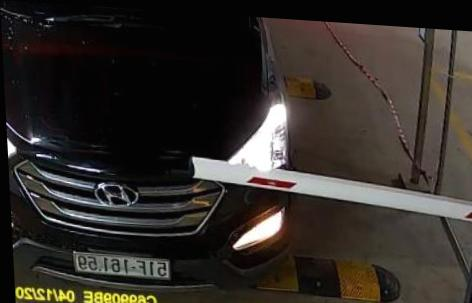License_Plate: (73, 246, 170, 281)
